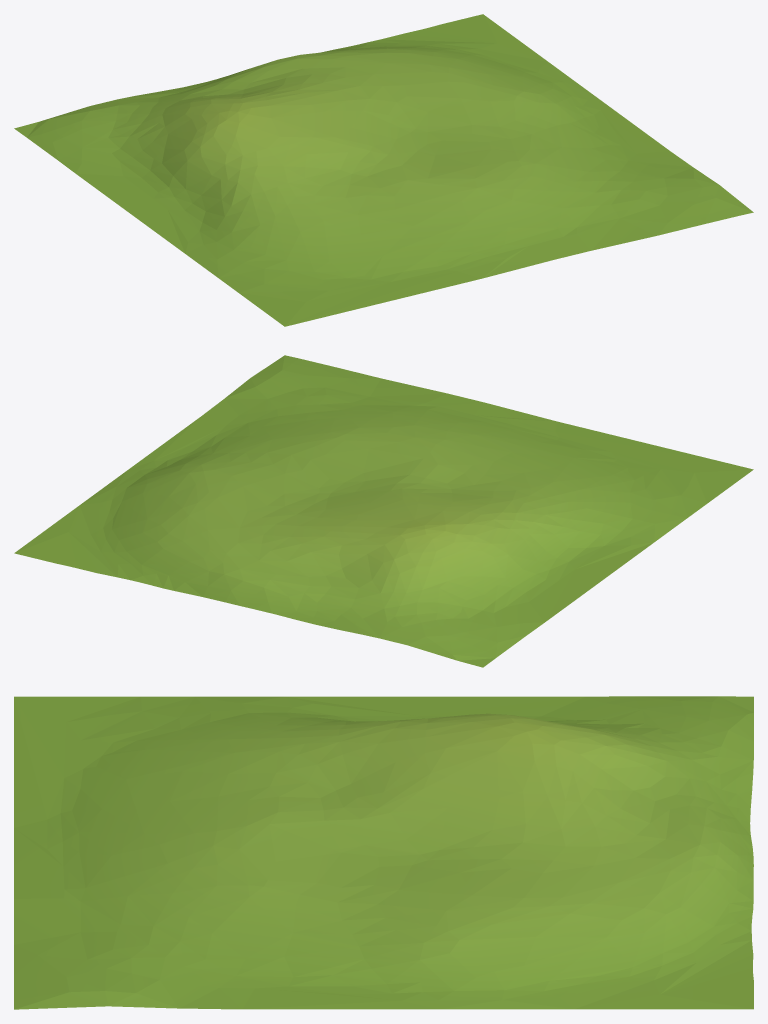
3 views of the same model, one above another, from view 1: azimuth 30°, elevation 25°; view 2: azimuth 150°, elevation 25°; view 3: azimuth 270°, elevation 25° (orthographic). The views are drawn at different scales.
Visible parts, largest first — view 1: Plane_04; view 2: Plane_04; view 3: Plane_04.
Part boxes in pixels (x1,y1,x2,y2): Plane_04: (14,14,753,326); Plane_04: (14,355,753,667); Plane_04: (14,696,753,1009).
Size of the model in its own units: 50 by 4.43 by 50.
